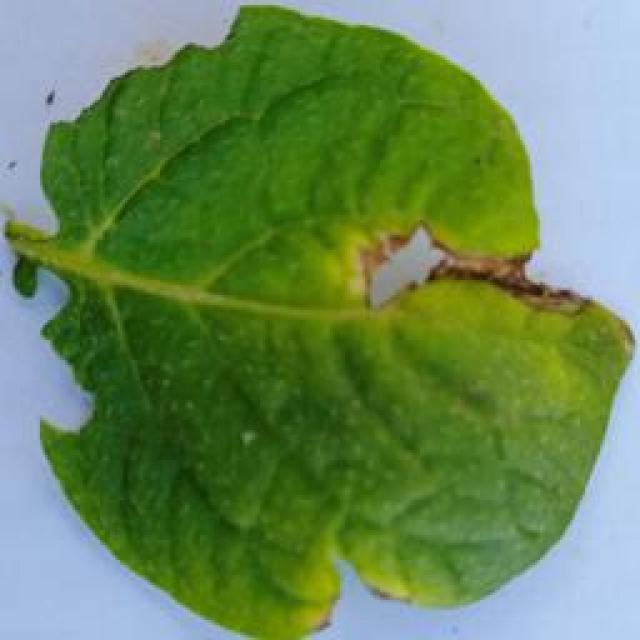Potato_Late_Blight: (34, 17, 632, 614)
